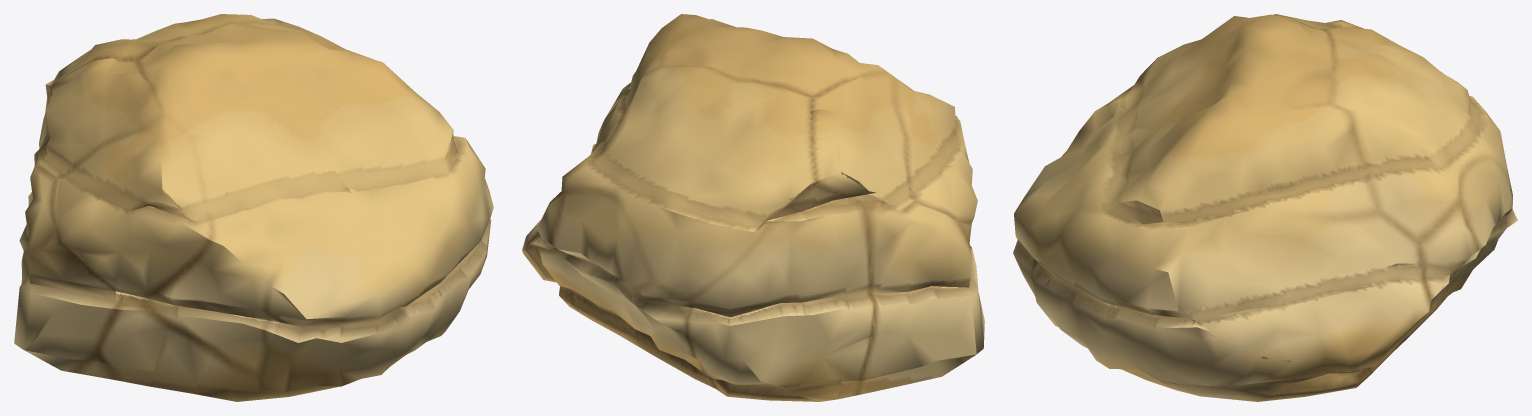
File: arena_compacta.fbx
3 views of the same model, side by side, from view 1: azimuth 30°, elevation 25°; view 2: azimuth 150°, elevation 25°; view 3: azimuth 270°, elevation 25° (orthographic).
Visible parts, largest first — view 1: arena_compacta; view 2: arena_compacta; view 3: arena_compacta.
Boxes of the visible parts, box(x1,y1,x2,y2) form: arena_compacta: box(14, 14, 493, 401); arena_compacta: box(522, 14, 984, 401); arena_compacta: box(1013, 14, 1517, 401).
Bounding box in the file's own units: 2.2 × 1.37 × 2.28.
Materials: 1 (1 with a texture image).
